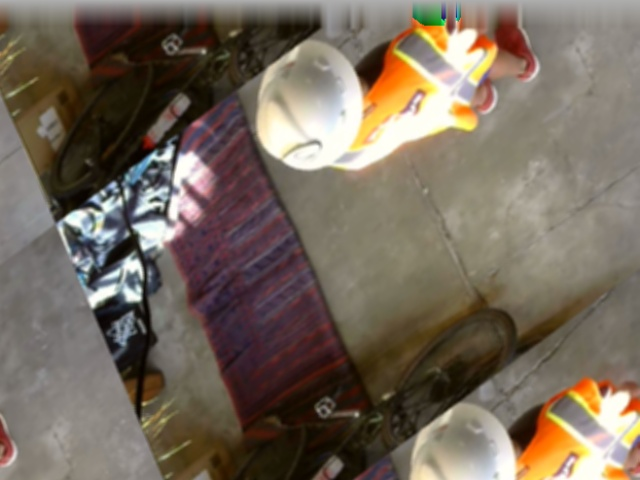two: (279, 131, 324, 179)
